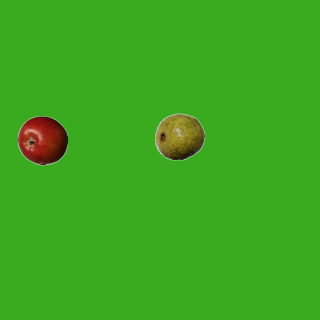Apple Braeburn: (17, 115, 67, 165)
Guava: (154, 111, 204, 161)
